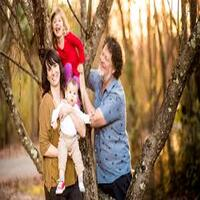person: (34, 41, 69, 89), (39, 8, 80, 47), (94, 44, 127, 87), (60, 72, 85, 113)
